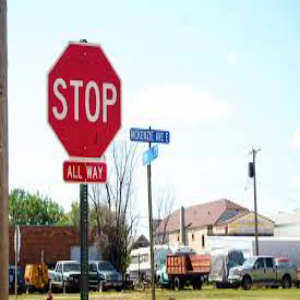STOP_SIGN: (46, 40, 123, 159)
